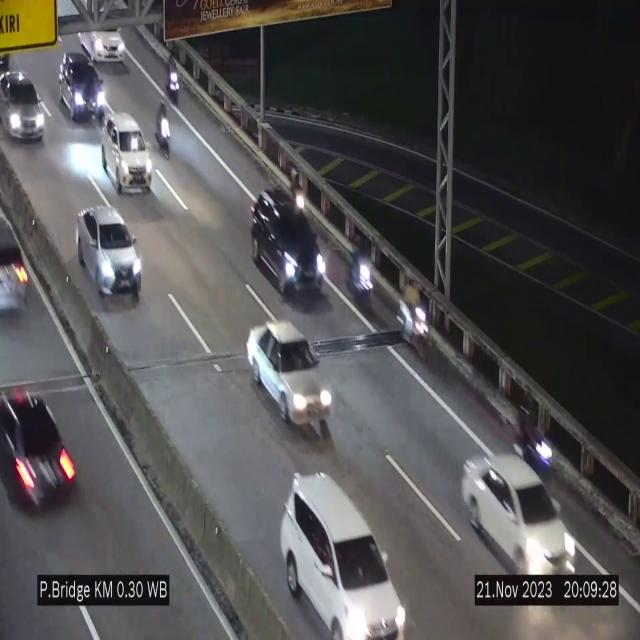Car: (280, 473, 406, 640), (462, 453, 576, 571), (0, 378, 76, 513), (240, 183, 326, 299), (247, 321, 333, 430), (78, 205, 142, 296), (0, 203, 35, 328), (101, 113, 151, 195), (0, 69, 50, 147), (60, 54, 116, 123), (76, 6, 130, 62)
Motorcycle: (512, 381, 546, 473), (402, 269, 428, 362), (348, 233, 373, 317), (154, 100, 174, 163), (165, 53, 179, 103)
